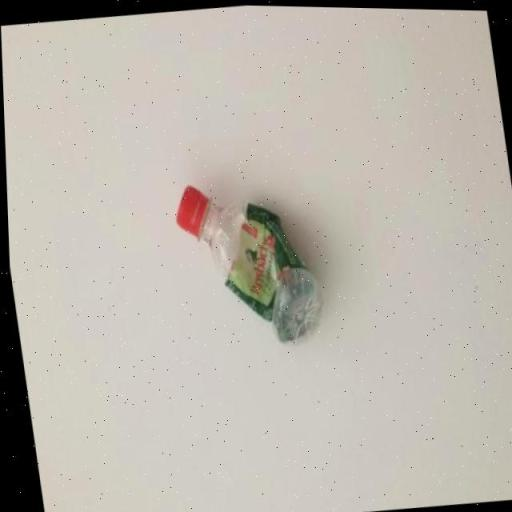plastic: (167, 165, 329, 357)
